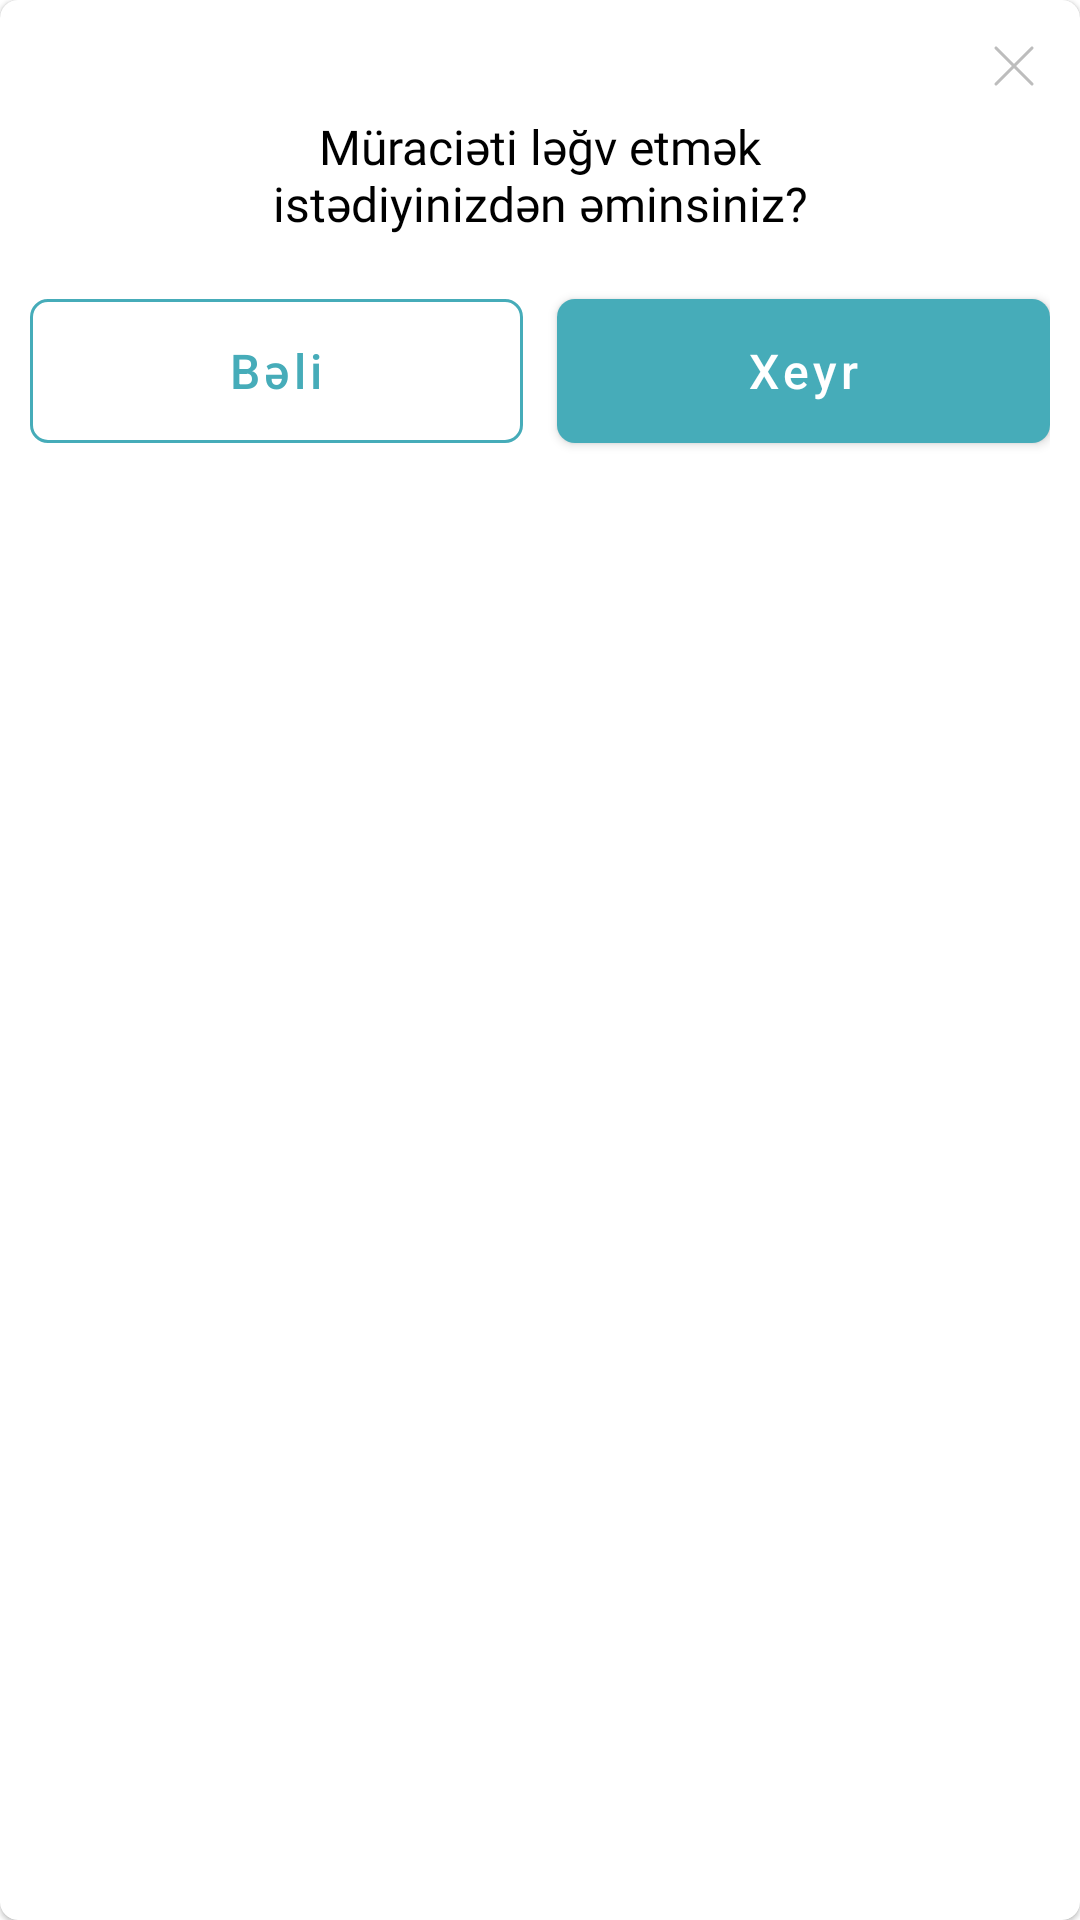

Point at icon controls on the screen. Image size 1080 × 1920, points as (x=x, y=y).
cancel: (x=1014, y=66)
